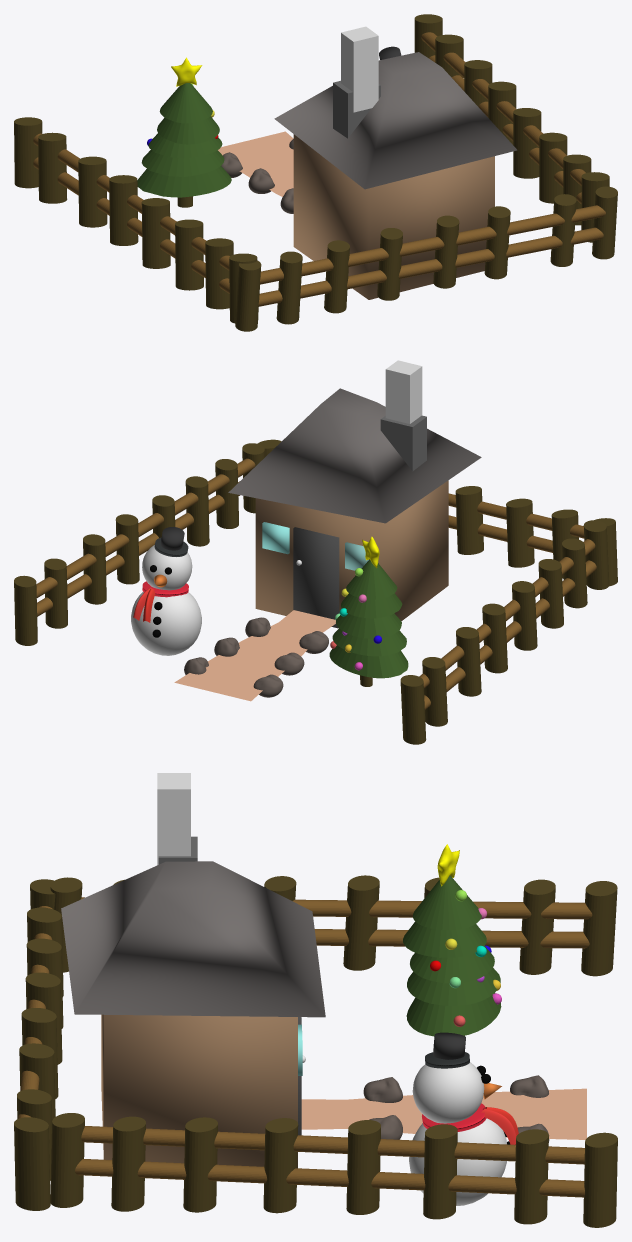
File: Snowman.fbx
3 renders of one model, top to bottom at view 1: azimuth 30°, elevation 25°; view 2: azimuth 150°, elevation 25°; view 3: azimuth 270°, elevation 25°, orthographic. The views are drawn at different scales.
Visible parts, largest first — view 1: Cube.001, Cube, Cylinder.009, Cylinder.010, Smoke Domain, Plane, tree 1, tree base.007, tree base.006, tree base.004, tree base.005, tree base.003 (+30 smaller); view 2: Cube.001, Cube, Plane, Cube.002, Body, Cylinder.005, Smoke Domain, tree base.020, tree base.019, Cube.006, tree base.008, tree 1 (+32 smaller); view 3: Cube.001, Cube, Plane, Cylinder.006, Cylinder.005, Head, tree base.024, Cylinder.008, tree base.016, tree base.010, tree base.009, tree base.015 (+27 smaller).
Part boxes in pixels (x1,y1,x2,y2): Cube.001: [274, 52, 517, 189]; Cube: [293, 134, 494, 299]; Cylinder.009: [260, 205, 605, 284]; Cylinder.010: [258, 227, 603, 306]; Smoke Domain: [341, 26, 378, 112]; Plane: [218, 131, 293, 196]; tree 1: [137, 166, 231, 197]; tree base.007: [38, 132, 67, 203]; tree base.006: [78, 156, 107, 227]; tree base.004: [141, 198, 170, 268]; tree base.005: [109, 175, 138, 245]; tree base.003: [175, 219, 203, 290]; Cube.001: [228, 388, 481, 523]; Cube: [255, 480, 448, 628]; Plane: [174, 610, 335, 701]; Cube.002: [293, 527, 339, 628]; Body: [131, 592, 201, 655]; Cylinder.005: [36, 458, 255, 597]; Smoke Domain: [385, 360, 422, 423]; tree base.020: [455, 486, 483, 554]; tree base.019: [506, 498, 534, 567]; Cube.006: [380, 415, 426, 471]; tree base.008: [400, 675, 426, 744]; tree 1: [329, 645, 408, 678]; Cube.001: [61, 861, 325, 1017]; Cube: [101, 1014, 297, 1168]; Plane: [301, 1088, 586, 1139]; Cylinder.006: [75, 1159, 584, 1197]; Cylinder.005: [81, 1126, 584, 1164]; Head: [412, 1062, 484, 1123]; tree base.024: [14, 1117, 50, 1210]; Cylinder.008: [80, 897, 592, 919]; tree base.016: [583, 1132, 617, 1227]; tree base.010: [111, 1116, 145, 1211]; tree base.009: [50, 1113, 84, 1207]; tree base.015: [514, 1129, 548, 1224].
Size of the model in its own units: 1816 by 1025 by 1694.
